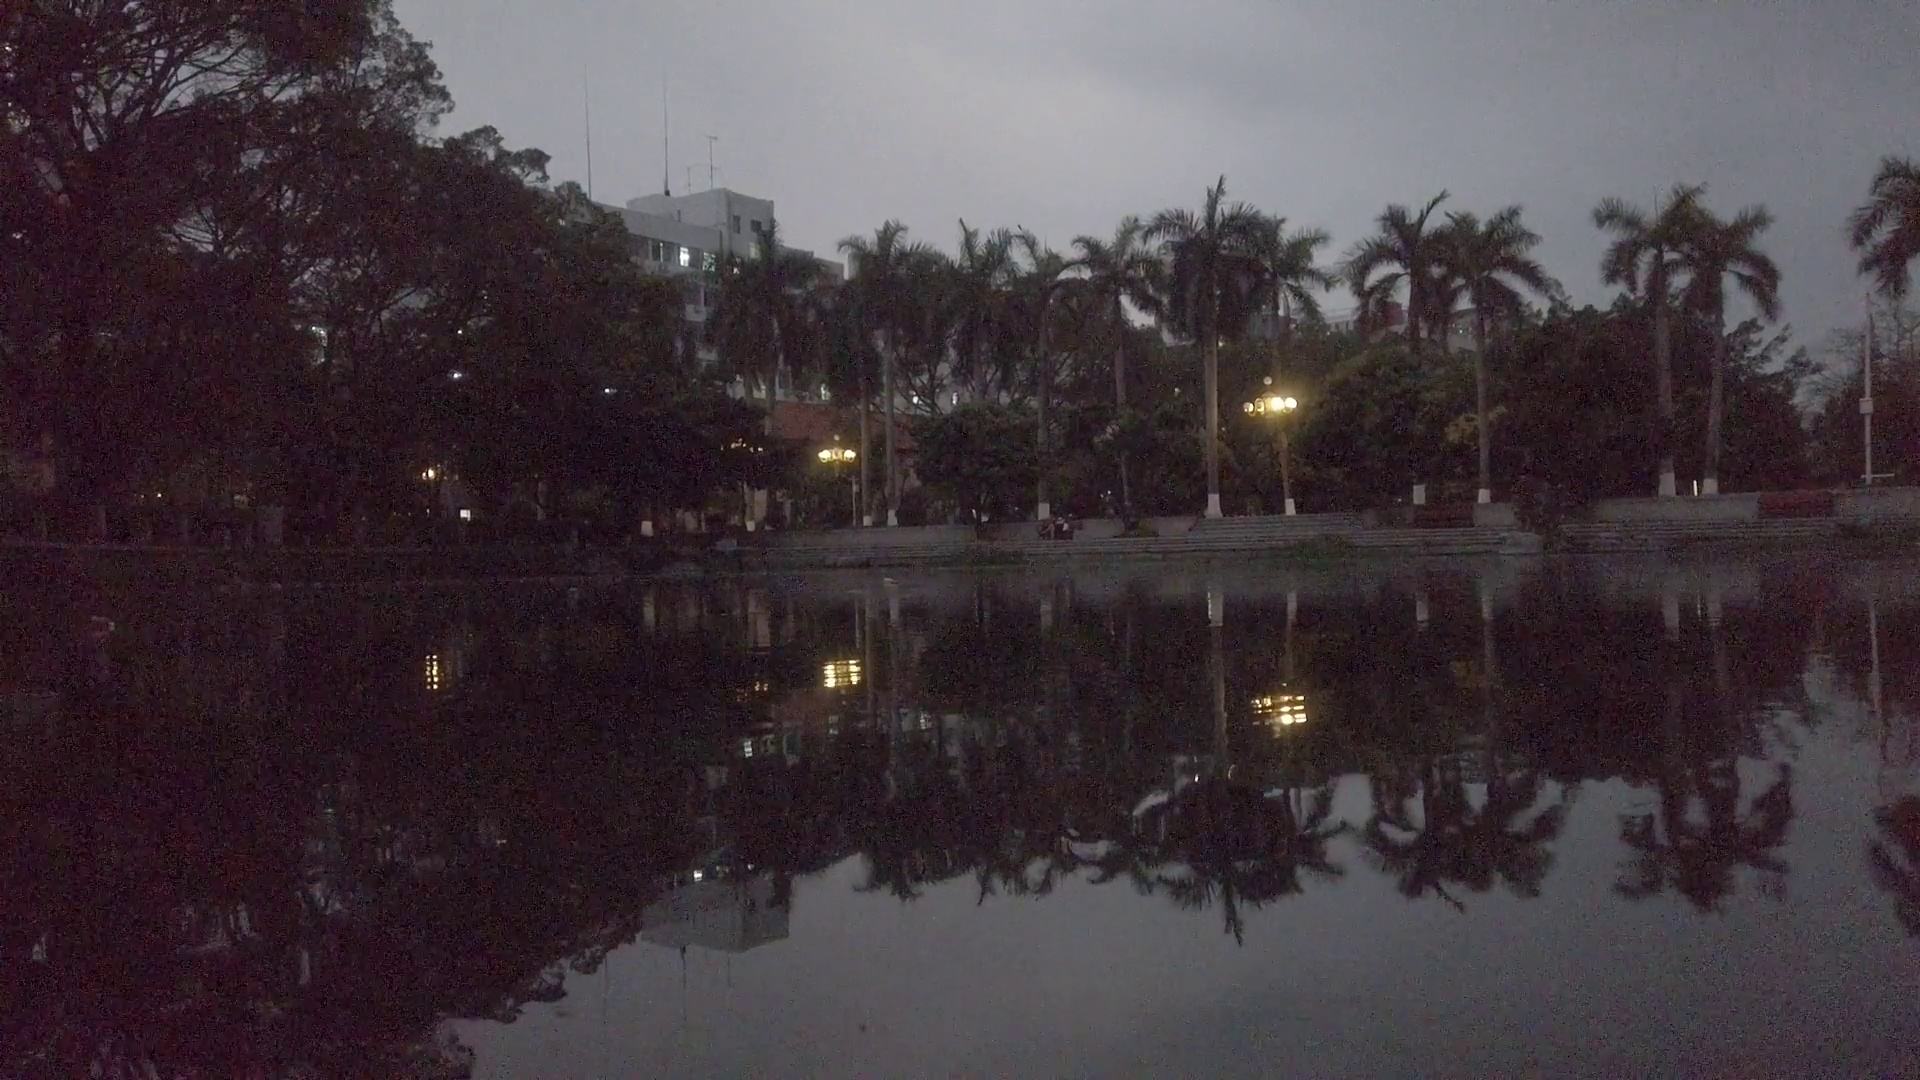bottle: (90, 615, 115, 632), (881, 574, 895, 585)
